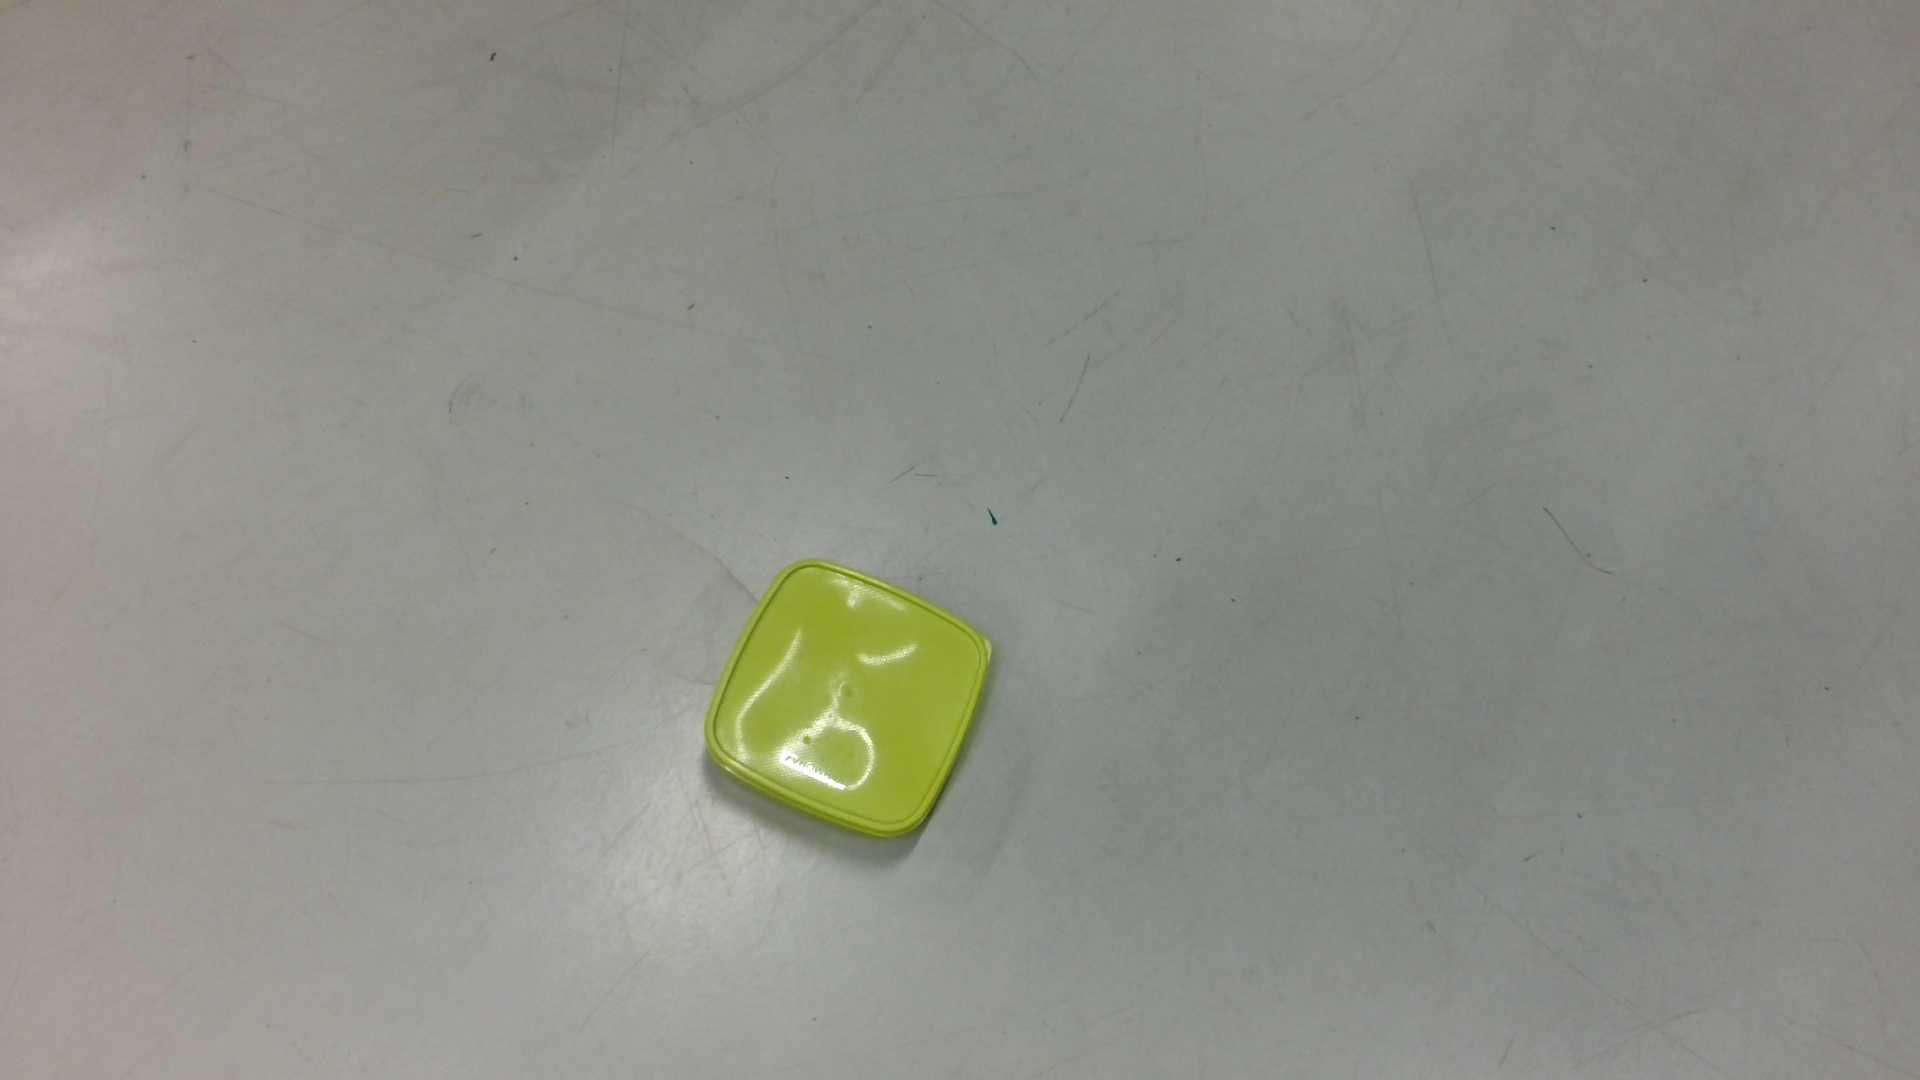Box: (698, 553, 1002, 851)
